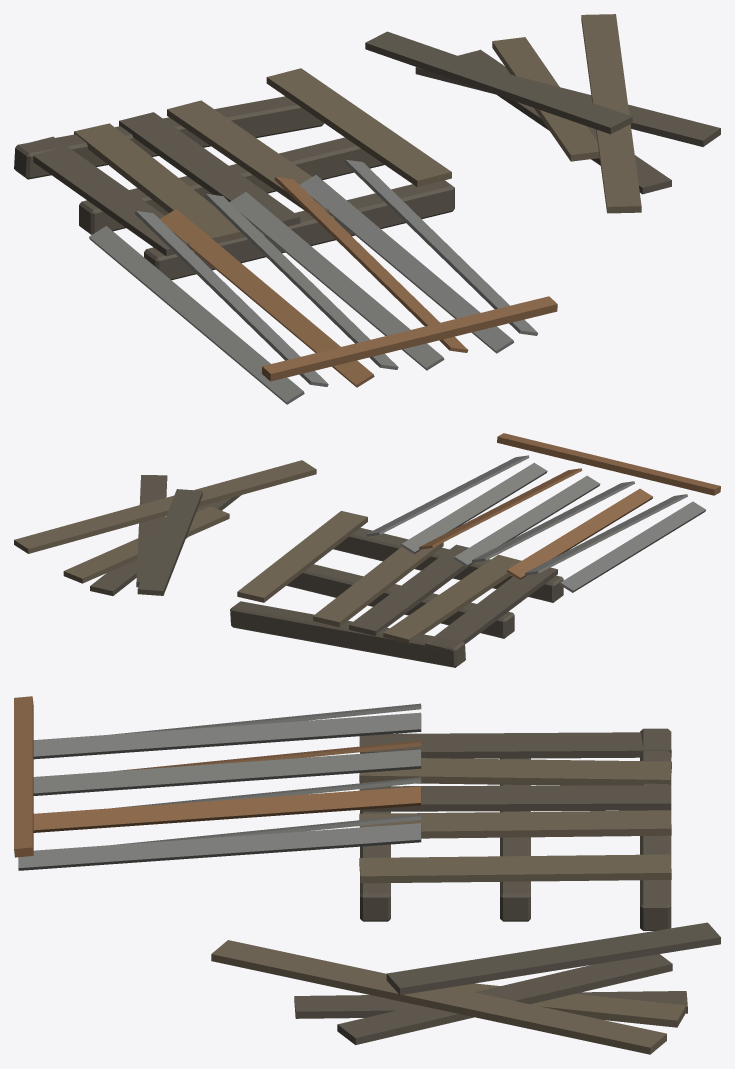
File: litter_planks.glb
The picture shows the model from 3 angles, top to bottom: view 1: azimuth 30°, elevation 25°; view 2: azimuth 150°, elevation 25°; view 3: azimuth 270°, elevation 25°; orthographic projection. The views are drawn at different scales.
Visible parts, largest first — view 1: litter_planks; view 2: litter_planks; view 3: litter_planks.
Part boxes in pixels (x1,y1,x2,y2): litter_planks: [14, 14, 720, 404]; litter_planks: [14, 433, 720, 667]; litter_planks: [14, 696, 720, 1054].
Size of the model in its own units: 2.56 by 0.2347 by 2.27.
